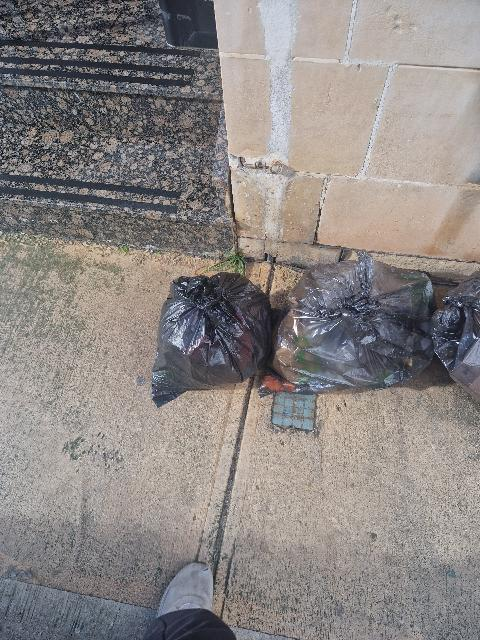Recyclable -Grey-: (259, 252, 435, 396), (151, 273, 271, 406), (430, 273, 480, 399)
